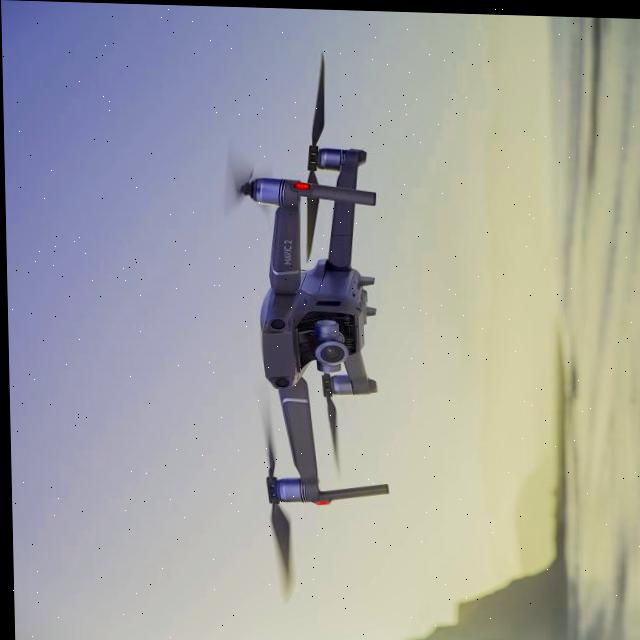drone: (207, 36, 379, 552)
